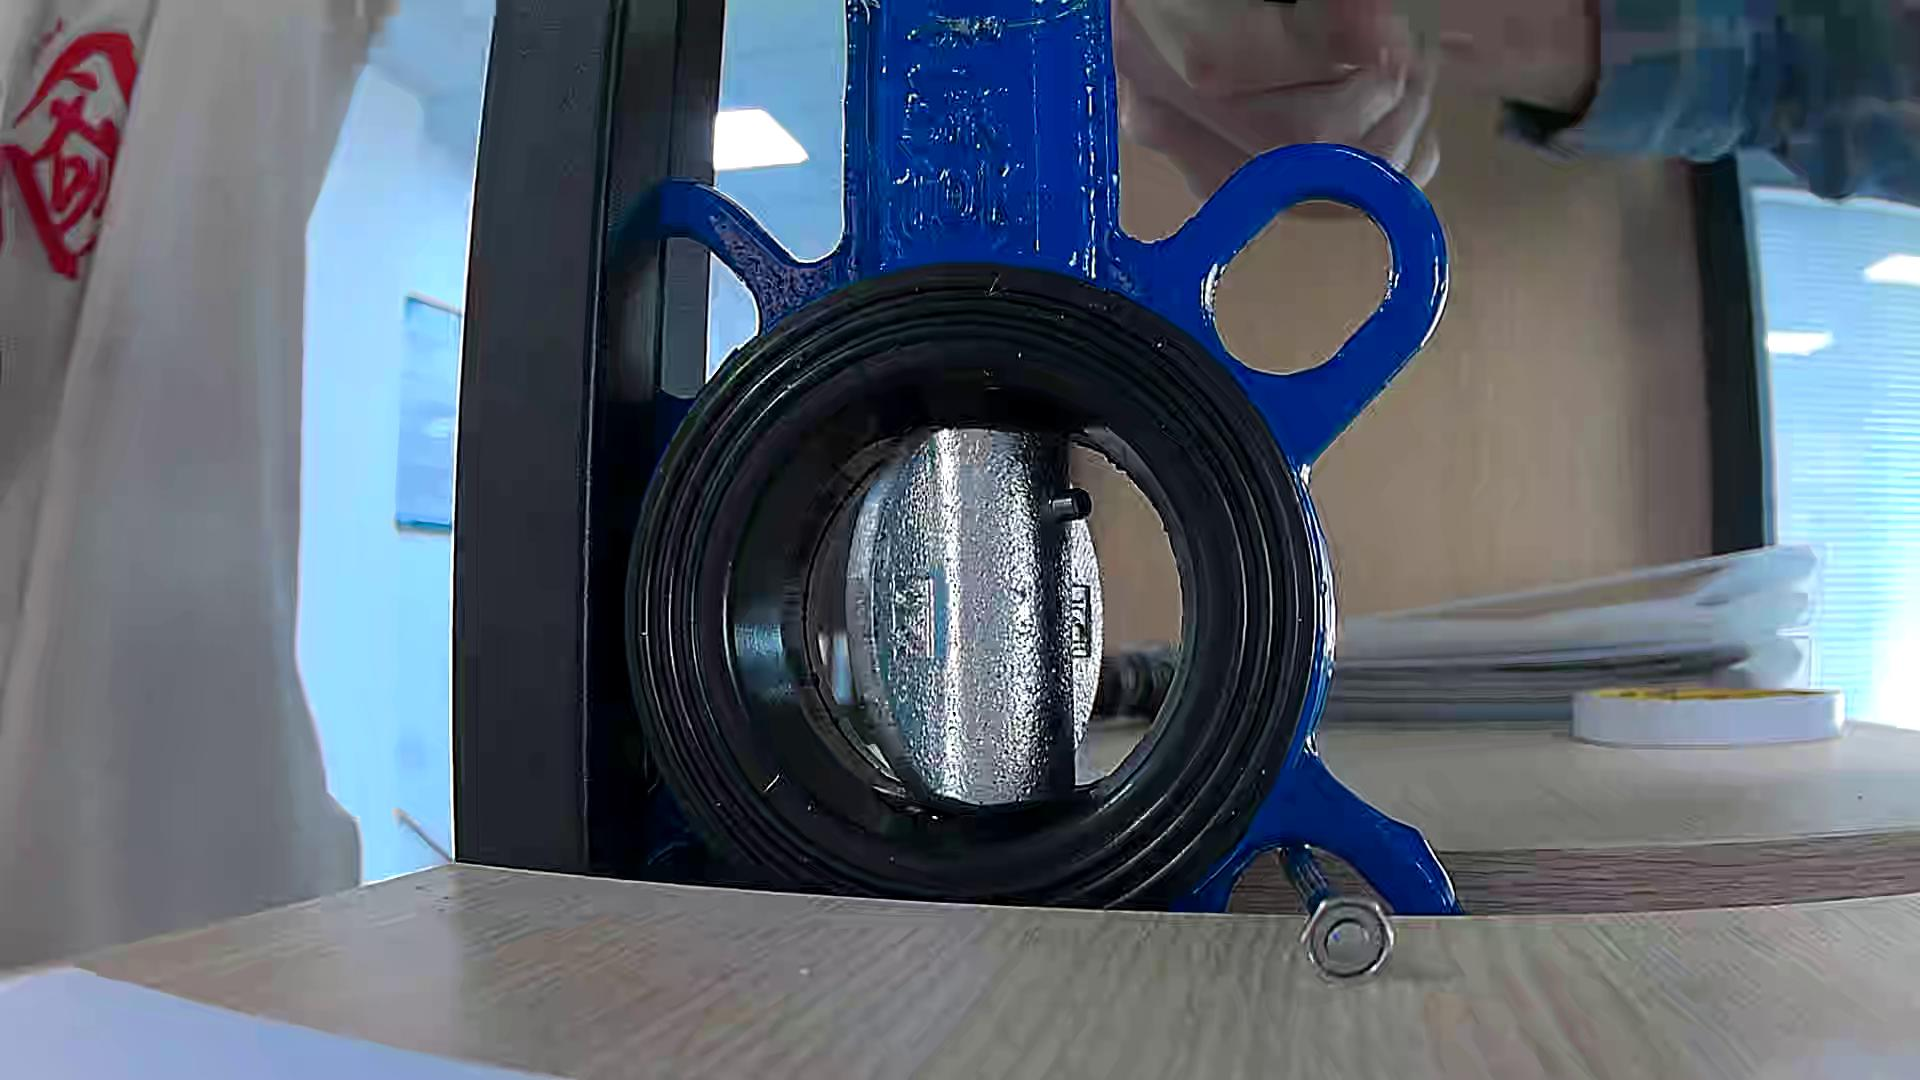valve: (844, 427, 1102, 806)
